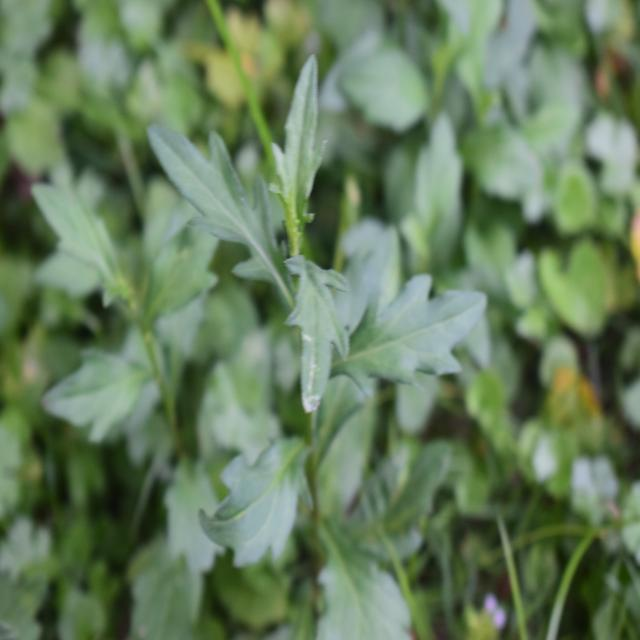Indian aster: (162, 94, 440, 547)
